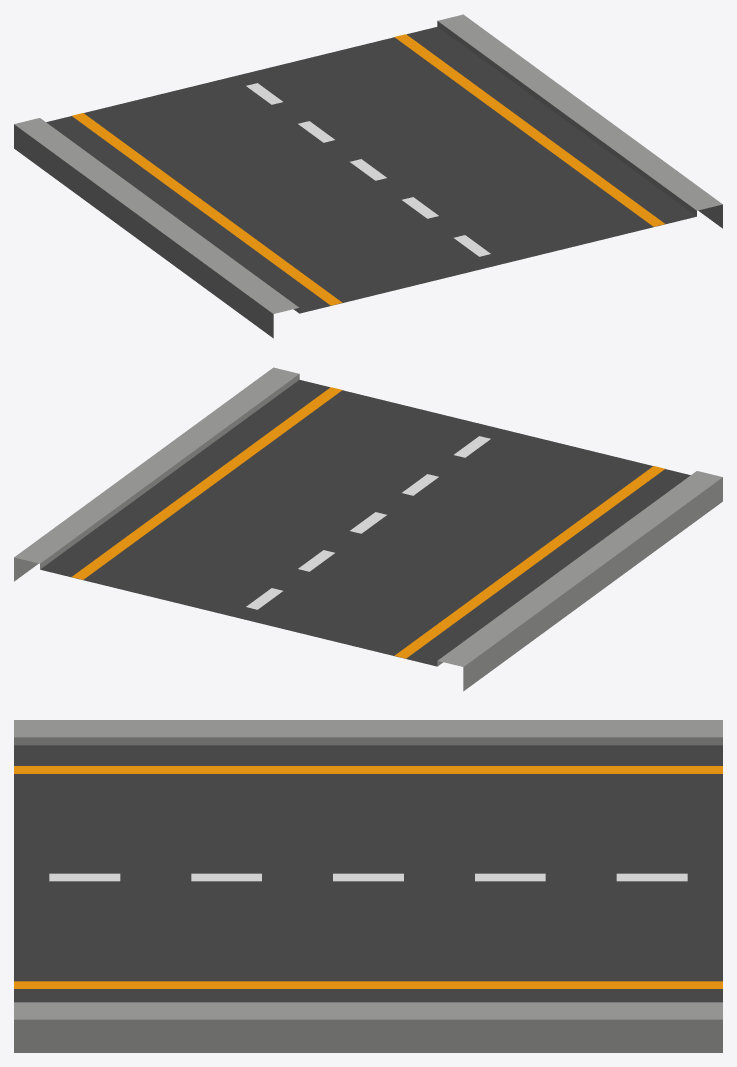
Rendered from Road_A_1.fbx.
The picture shows the model from 3 angles, top to bottom: view 1: azimuth 30°, elevation 25°; view 2: azimuth 150°, elevation 25°; view 3: azimuth 270°, elevation 25°; orthographic projection. The views are drawn at different scales.
Parts seen in each view (by area): view 1: Road_A_1; view 2: Road_A_1; view 3: Road_A_1.
Part boxes in pixels (x1,y1,x2,y2): Road_A_1: (14,14,722,338); Road_A_1: (14,367,722,691); Road_A_1: (14,720,722,1052).
Bounding box in the file's own units: 800 × 41.48 × 800.
